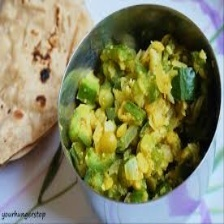sabzi: (65, 21, 214, 203)
